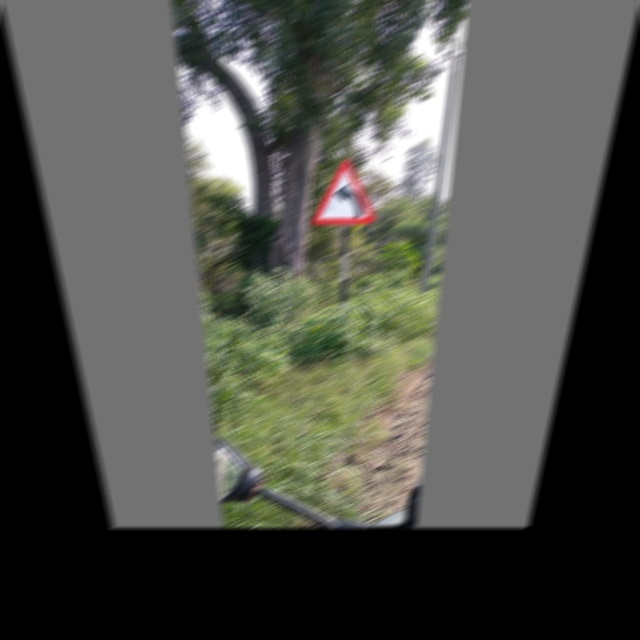Left_Hand_Curve: (308, 153, 378, 228)
